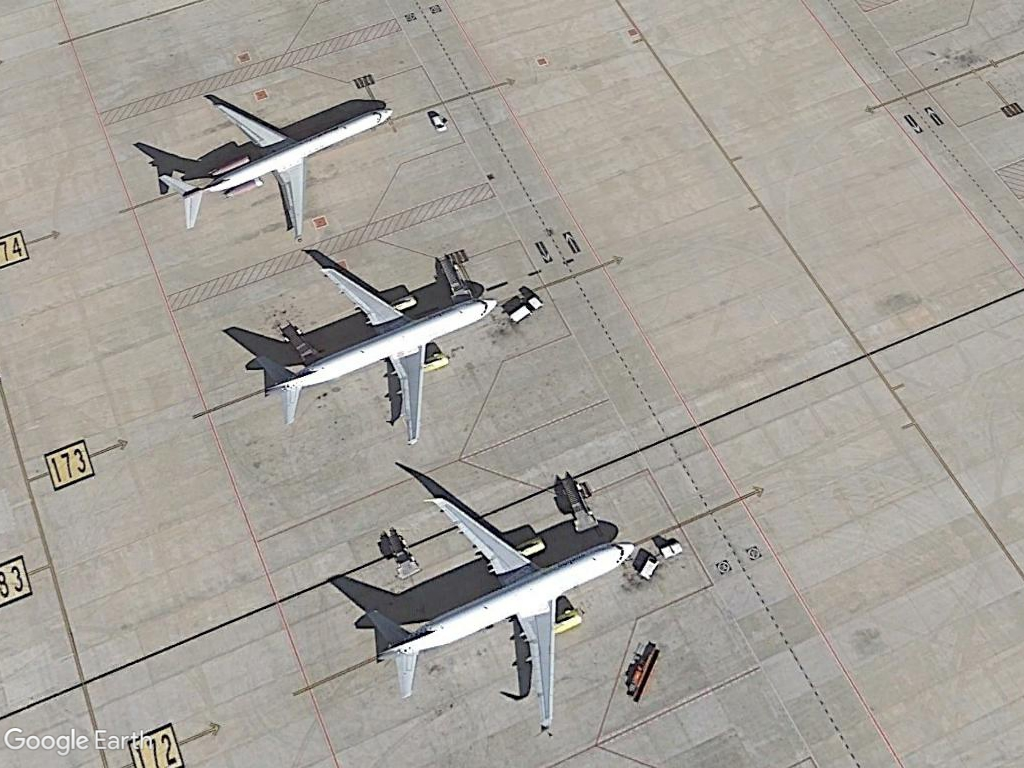airliner: (366, 496, 636, 736), (255, 265, 501, 451), (144, 90, 402, 244)
stairtruck: (552, 472, 604, 534), (431, 248, 482, 301)
